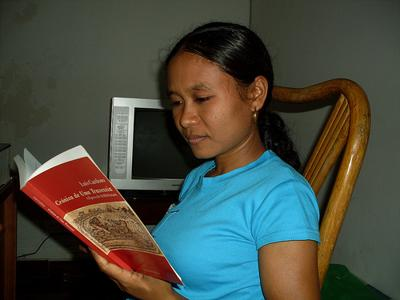person: (75, 22, 321, 300)
